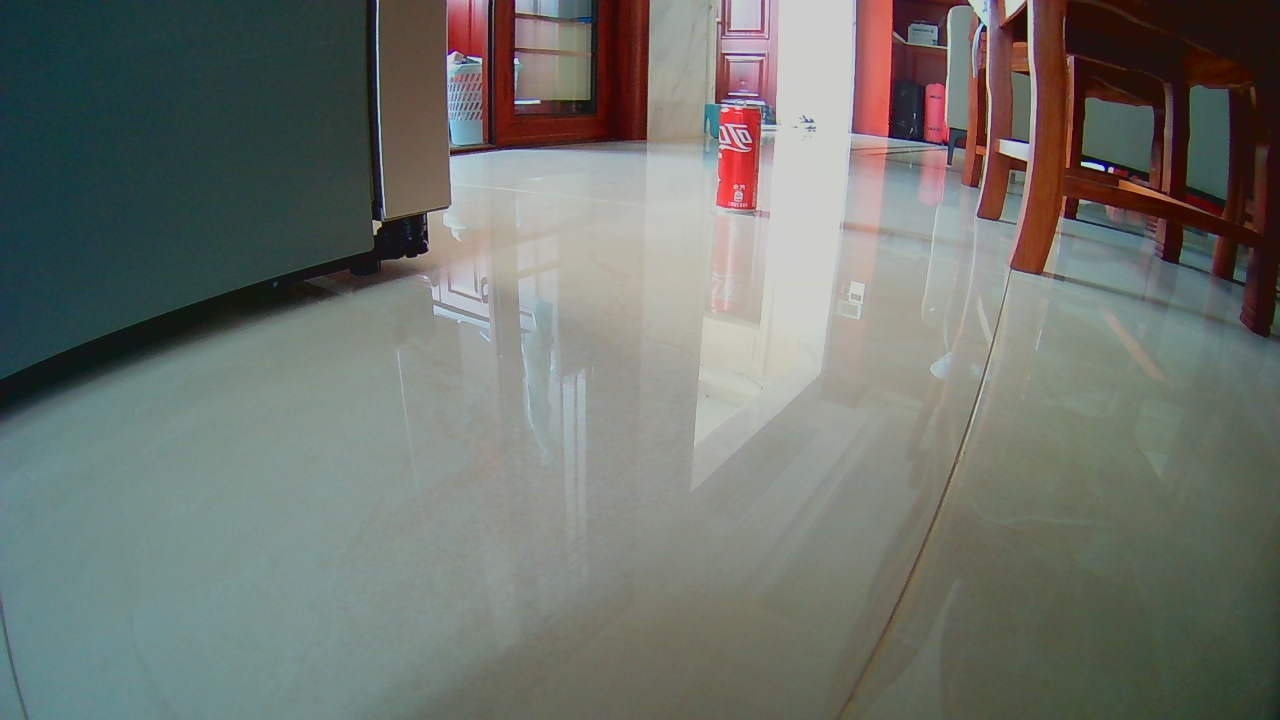cola: (720, 98, 758, 212)
